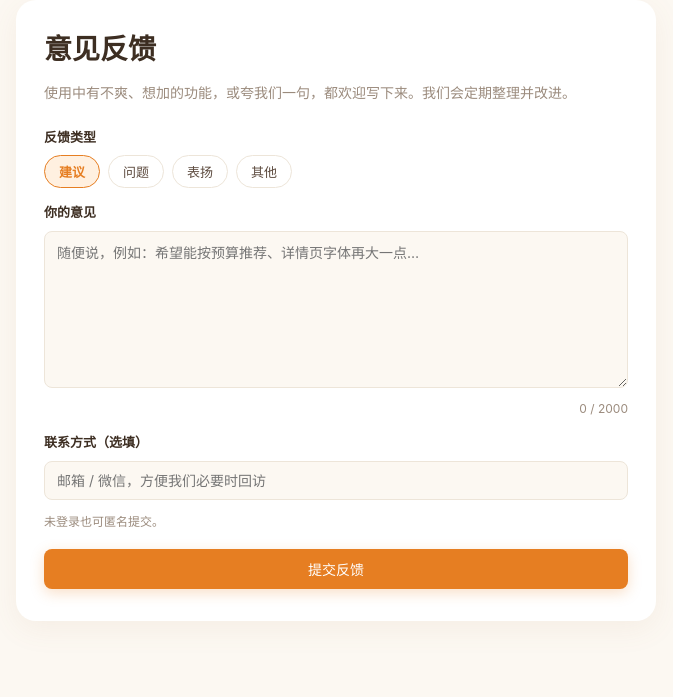
Test: FeedbackView › 合法内容提交成功后展示成功提示
Type "希望能按预算推荐菜谱" into the text box with test id "feedback-content". click: (336, 309)
box: 44,231 -> 628,388
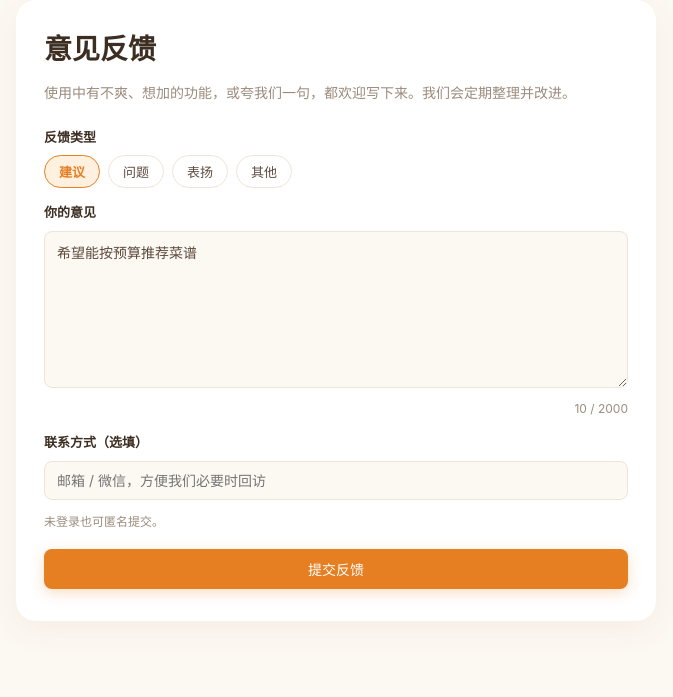
Click the button with test id "feedback-submit". click: (336, 569)
box: 44,549 -> 628,589
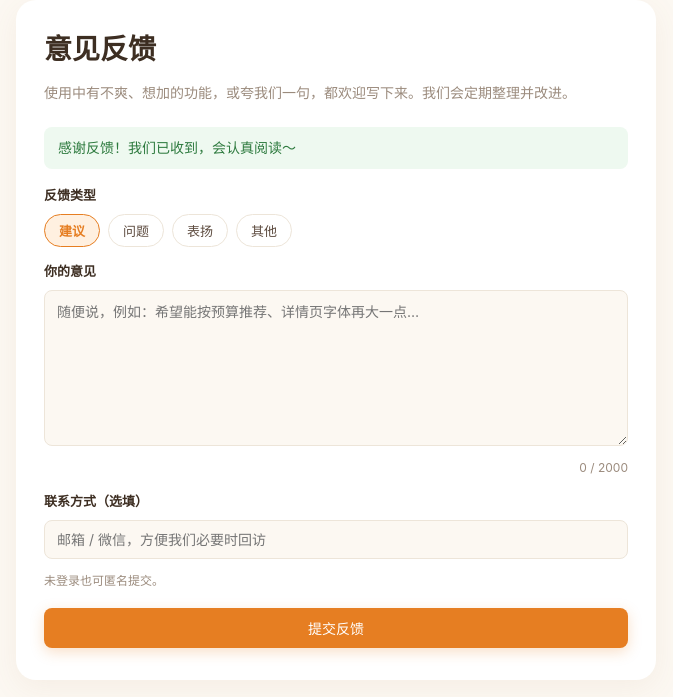
Now the text with test id "feedback-success" shows "感谢反馈", box 58,139 -> 296,156
